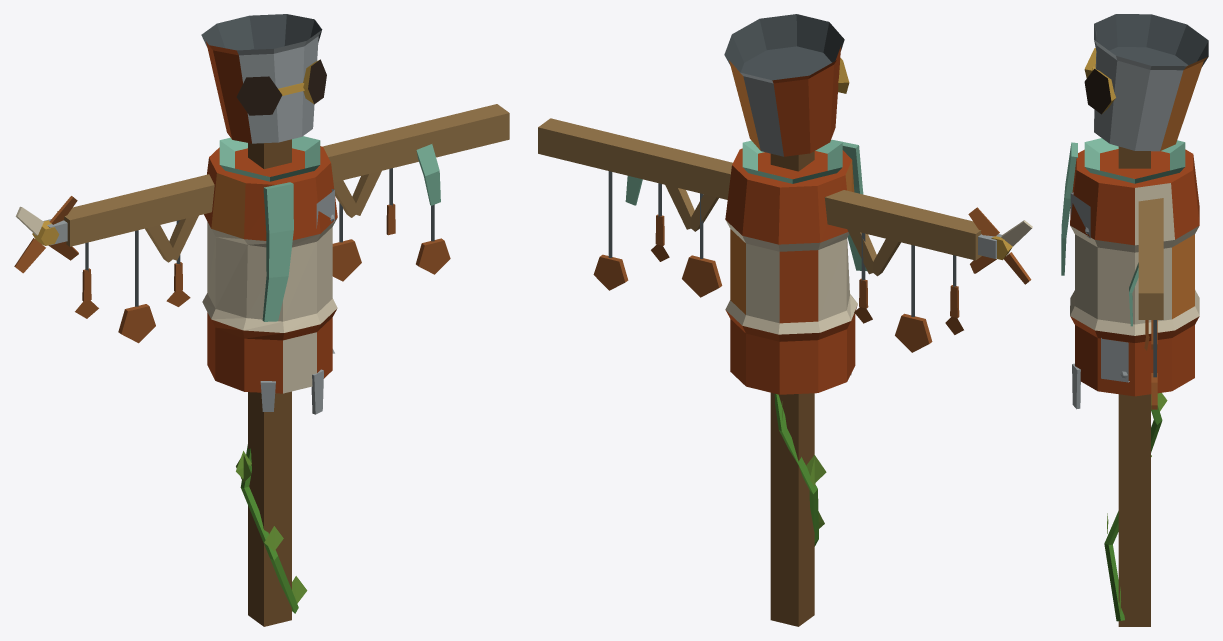
Rendered from salvage-scarecrow-eec74d.glb.
3 views of the same model, side by side, from view 1: azimuth 30°, elevation 25°; view 2: azimuth 150°, elevation 25°; view 3: azimuth 270°, elevation 25° (orthographic).
Visible parts, largest first — view 1: body, bucket, spinner; view 2: body, bucket, spinner; view 3: body, bucket.
Boxes of the visible parts, x1,y1,x2,y2 form: body: (43, 104, 509, 626); bucket: (201, 14, 326, 143); spinner: (14, 196, 78, 273); body: (538, 118, 1001, 626); bucket: (724, 14, 849, 156); spinner: (968, 207, 1032, 284); body: (1061, 138, 1199, 626); bucket: (1084, 14, 1208, 151).
Size of the model in its own units: 1.92 by 2.21 by 0.5024.
